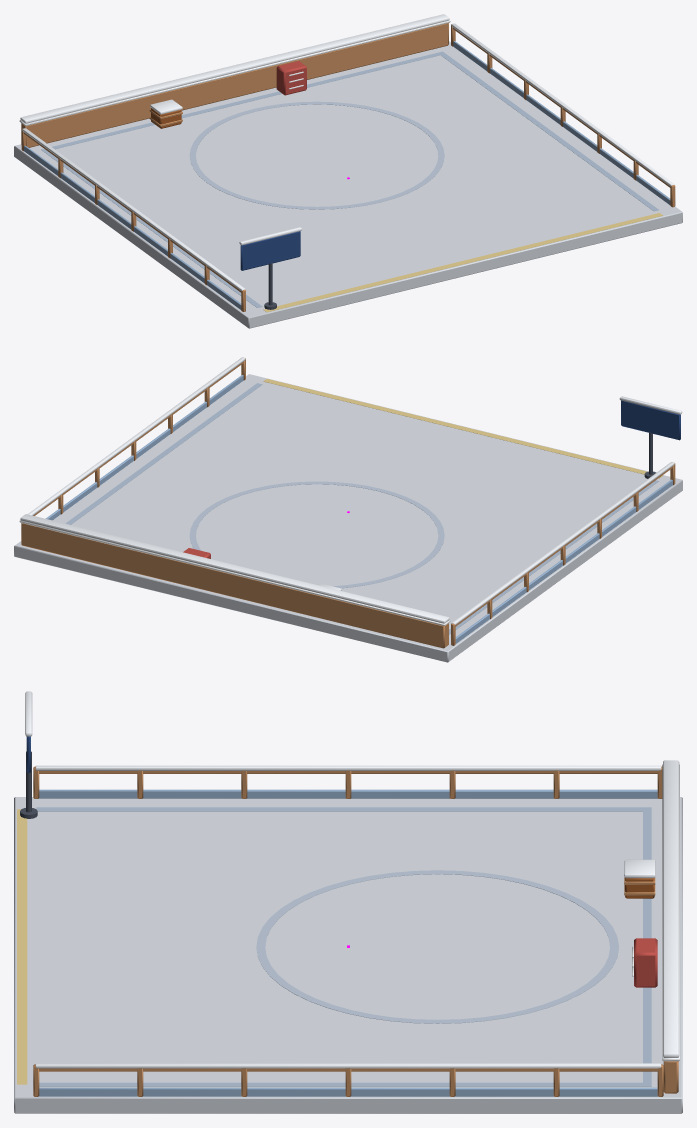
The model's file is Pack_BayOpen.fbx.
The picture shows the model from 3 angles, top to bottom: view 1: azimuth 30°, elevation 25°; view 2: azimuth 150°, elevation 25°; view 3: azimuth 270°, elevation 25°; orthographic projection. The views are drawn at different scales.
Parts seen in each view (by area): view 1: BayOpen__Floor__D9DEE6SP, BayOpen__Wood__C99263SP, BayOpen__Snow__F6FAFFSP, BayOpen__Lane__AFC0D4SP, BayOpen__Kick__9DB9D8SP, BayOpen__Turn__BCC9DASP, BayOpen__Fence__C99263SP, BayOpen__Sand__E3CD8FSP, BayOpen__Board__2F4F86SP, BayOpen__Trim__F2F4F7SP, BayOpen__Chest__C2514ASP; view 2: BayOpen__Floor__D9DEE6SP, BayOpen__Wood__C99263SP, BayOpen__Snow__F6FAFFSP, BayOpen__Kick__9DB9D8SP, BayOpen__Fence__C99263SP, BayOpen__Lane__AFC0D4SP, BayOpen__Turn__BCC9DASP, BayOpen__Sand__E3CD8FSP, BayOpen__Board__2F4F86SP, BayOpen__Trim__F2F4F7SP; view 3: BayOpen__Floor__D9DEE6SP, BayOpen__Snow__F6FAFFSP, BayOpen__Kick__9DB9D8SP, BayOpen__Lane__AFC0D4SP, BayOpen__Fence__C99263SP, BayOpen__Turn__BCC9DASP, BayOpen__Sand__E3CD8FSP, BayOpen__Chest__C2514ASP, BayOpen__Wood__C99263SP, BayOpen__Trim__F2F4F7SP.
Part boxes in pixels (x1,y1,x2,y2): BayOpen__Floor__D9DEE6SP: [14, 41, 682, 328]; BayOpen__Wood__C99263SP: [21, 23, 448, 147]; BayOpen__Snow__F6FAFFSP: [20, 14, 674, 291]; BayOpen__Lane__AFC0D4SP: [41, 51, 658, 307]; BayOpen__Kick__9DB9D8SP: [24, 41, 670, 309]; BayOpen__Turn__BCC9DASP: [189, 101, 444, 209]; BayOpen__Fence__C99263SP: [21, 24, 675, 311]; BayOpen__Sand__E3CD8FSP: [263, 213, 662, 312]; BayOpen__Board__2F4F86SP: [240, 231, 300, 270]; BayOpen__Trim__F2F4F7SP: [19, 20, 450, 125]; BayOpen__Chest__C2514ASP: [276, 61, 306, 95]; BayOpen__Floor__D9DEE6SP: [14, 374, 682, 662]; BayOpen__Wood__C99263SP: [21, 523, 448, 648]; BayOpen__Snow__F6FAFFSP: [20, 357, 682, 624]; BayOpen__Kick__9DB9D8SP: [45, 375, 672, 643]; BayOpen__Fence__C99263SP: [33, 358, 675, 645]; BayOpen__Lane__AFC0D4SP: [65, 383, 658, 634]; BayOpen__Turn__BCC9DASP: [189, 481, 444, 588]; BayOpen__Sand__E3CD8FSP: [263, 379, 663, 478]; BayOpen__Board__2F4F86SP: [621, 400, 680, 440]; BayOpen__Trim__F2F4F7SP: [19, 520, 450, 625]; BayOpen__Floor__D9DEE6SP: [14, 797, 682, 1113]; BayOpen__Snow__F6FAFFSP: [25, 691, 679, 1068]; BayOpen__Kick__9DB9D8SP: [39, 789, 657, 1096]; BayOpen__Lane__AFC0D4SP: [36, 807, 651, 1086]; BayOpen__Fence__C99263SP: [33, 766, 663, 1096]; BayOpen__Turn__BCC9DASP: [256, 870, 618, 1023]; BayOpen__Sand__E3CD8FSP: [17, 809, 27, 1084]; BayOpen__Chest__C2514ASP: [634, 938, 657, 987]; BayOpen__Wood__C99263SP: [624, 877, 678, 1093]; BayOpen__Trim__F2F4F7SP: [632, 764, 679, 1061].
Size of the model in its own units: 48.38 by 8.88 by 45.
